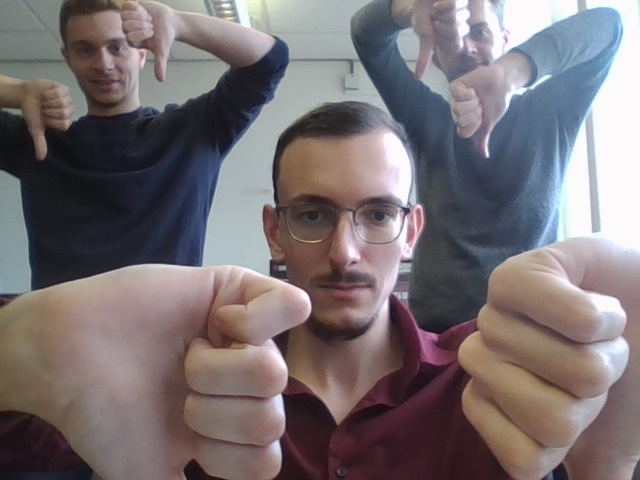thumbdown: (446, 65, 513, 159), (120, 1, 175, 82), (20, 76, 73, 160), (413, 1, 466, 80)
